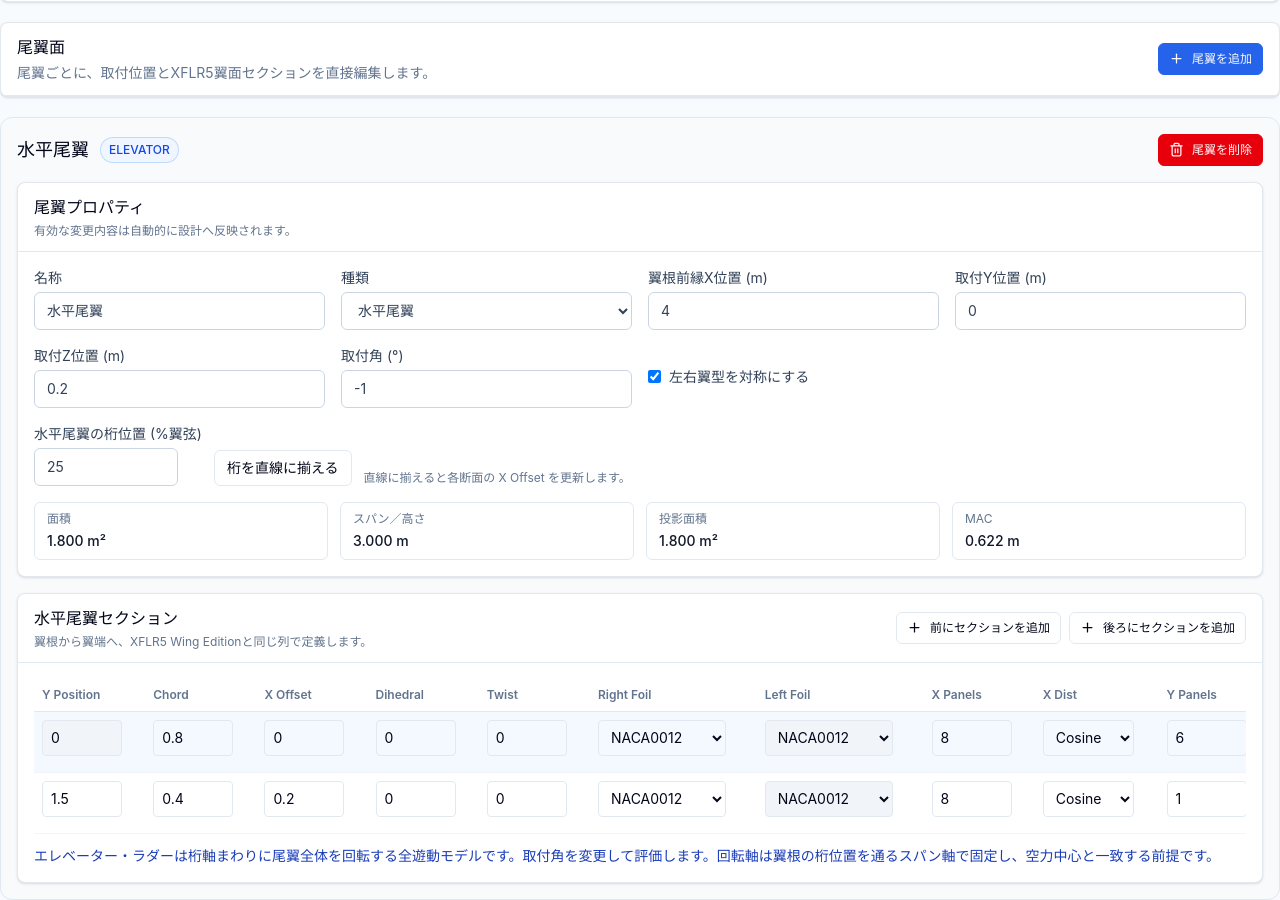
it: TailDesignPage › sets a tail spar position and aligns its sections on request
The width and height of the screenshot is (1280, 900).
(page scrolled)
Replace the text in the number field labelled "水平尾翼の桁位置 (%翼弦)" with "30" at (106, 467), box [34, 448, 178, 486]
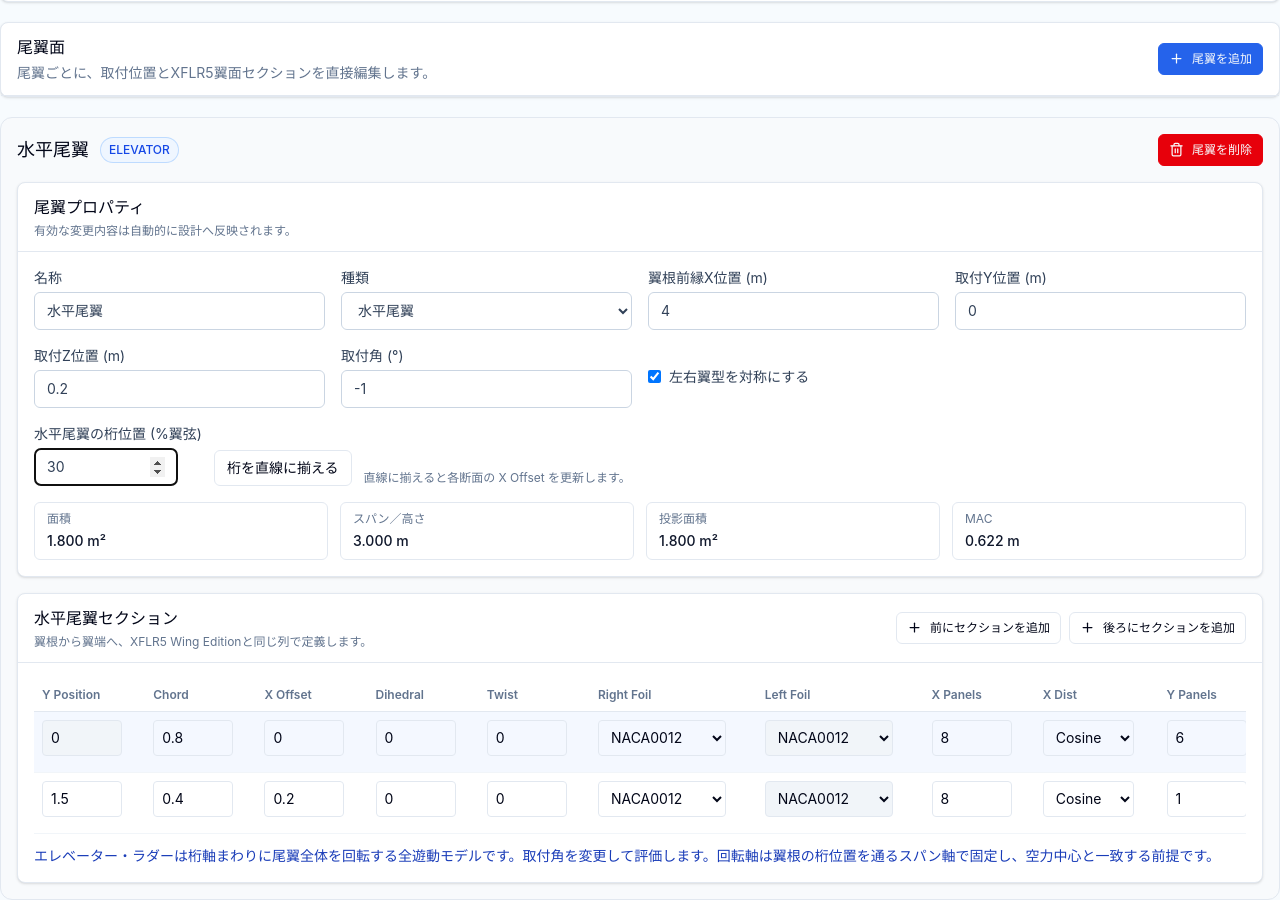
Click the button with aria-label "水平尾翼の桁を直線に揃える" at (283, 468), box [214, 450, 352, 486]
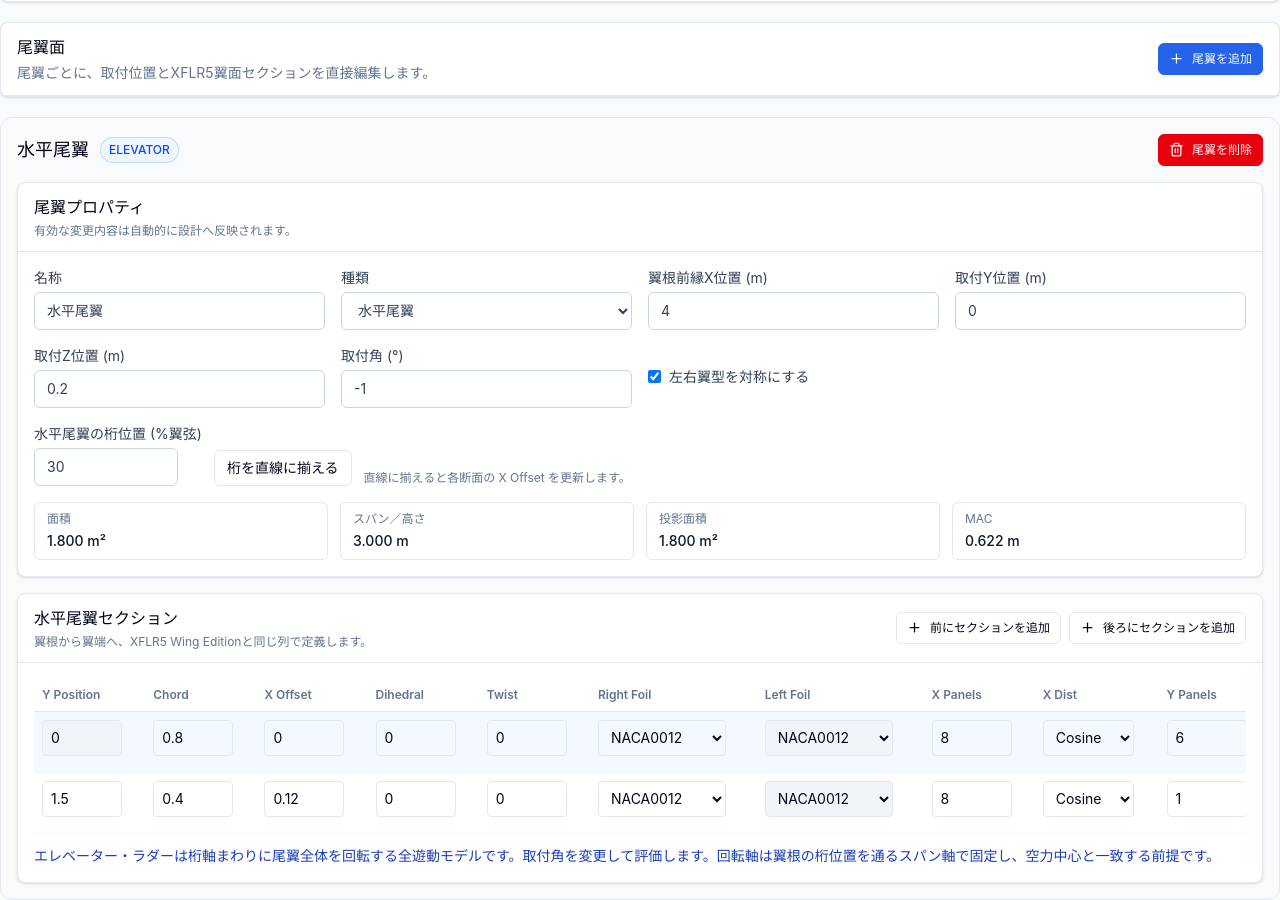
Result: the number field named "水平尾翼 section 2 X offset" holds "0.12" at [264, 781, 344, 817]
